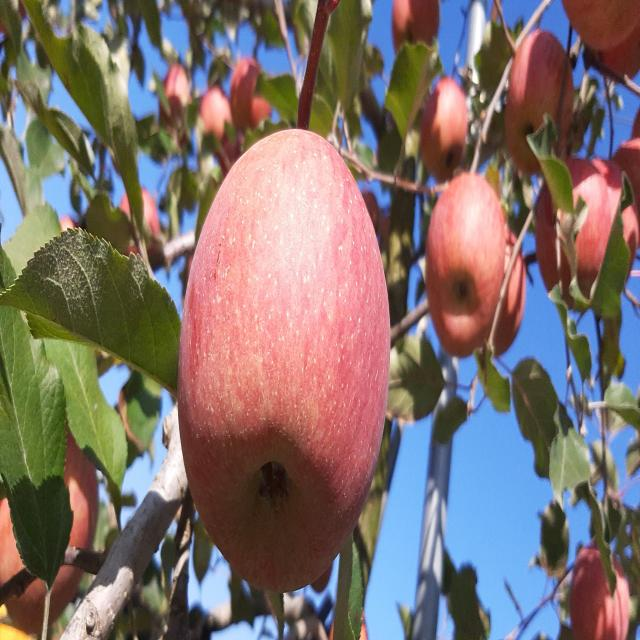fresh: (176, 117, 396, 608)
